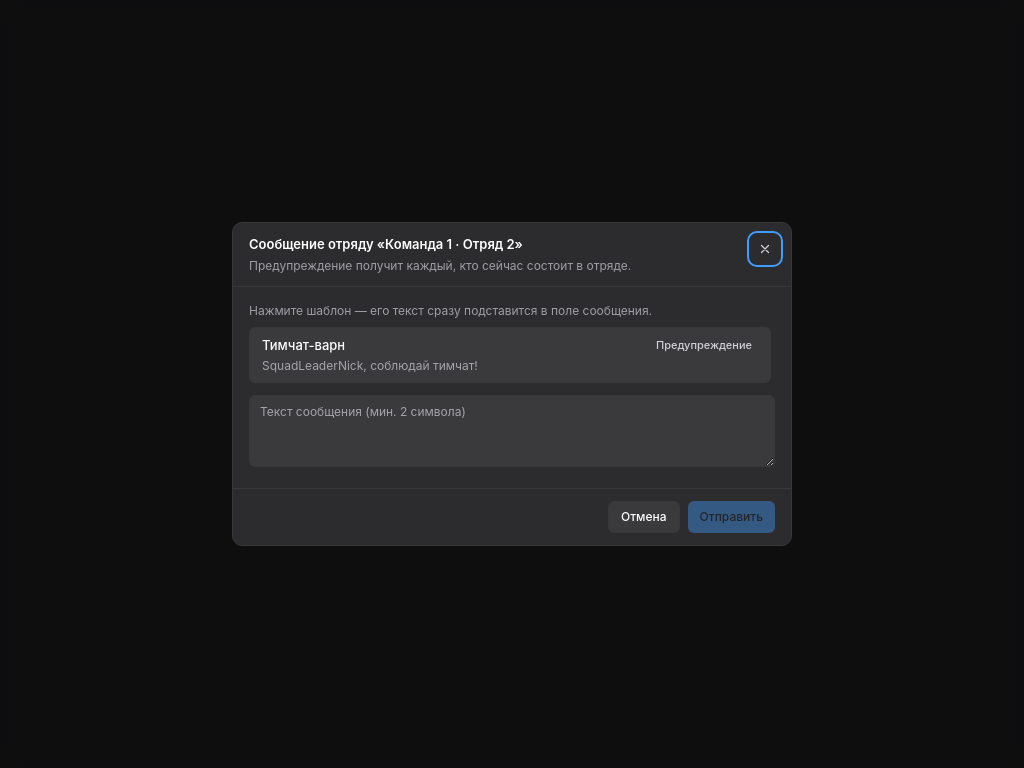
SquadMessageModal › substitutes {player} with the squad leader nickname when a template is picked
Expected: the dialog "Сообщение отряду «Команда 1 · Отряд 2»" is shown, [232,222,792,546]
Click the text "Тимчат-варн".
click(304, 345)  # box [262,336,345,354]
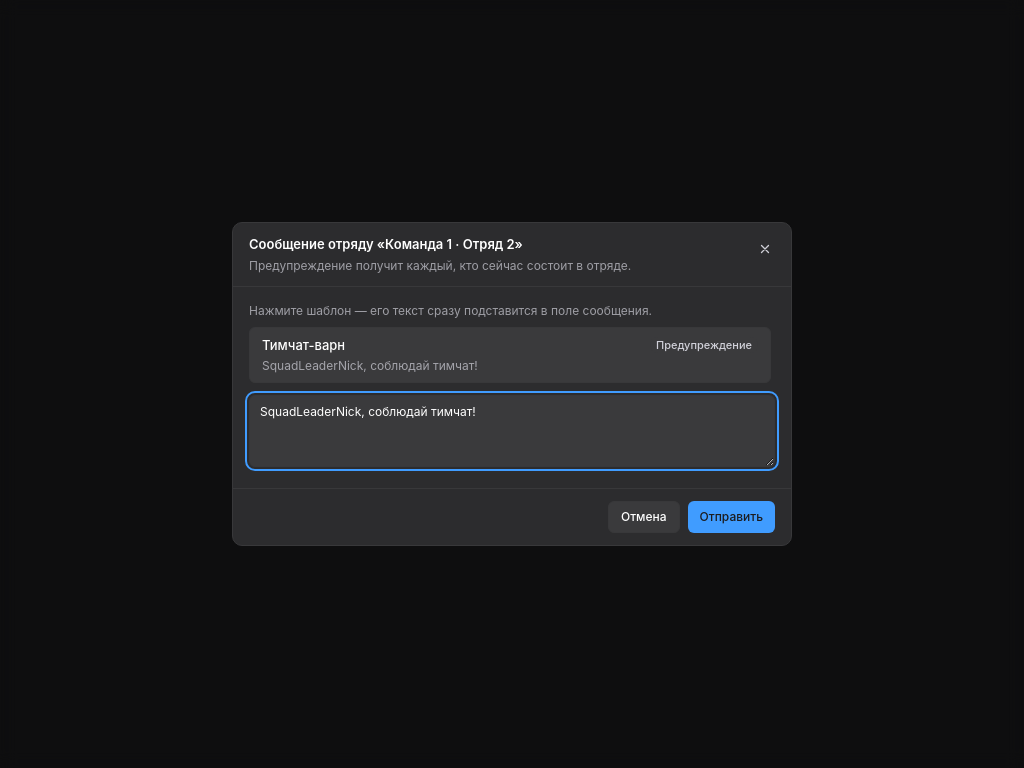
Expected: the text box with placeholder "Текст сообщения (мин. 2 символа)" holds "SquadLeaderNick, соблюдай тимчат!", [249,395,775,467]
